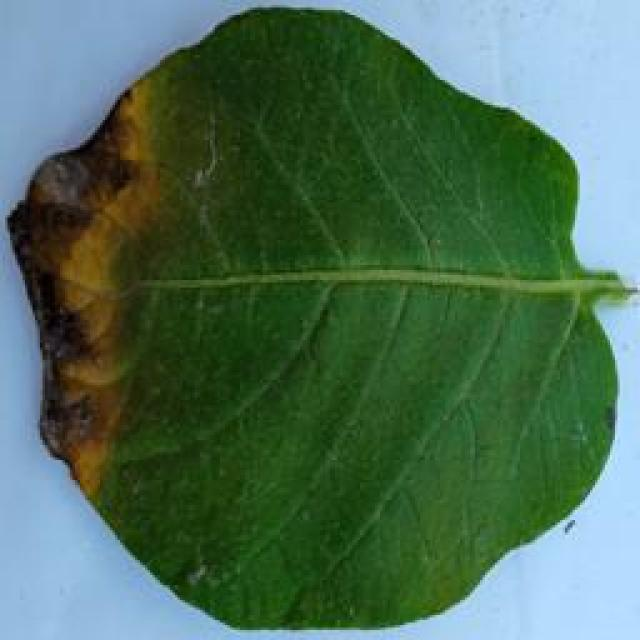Potato_Late_Blight: (8, 6, 626, 630)
